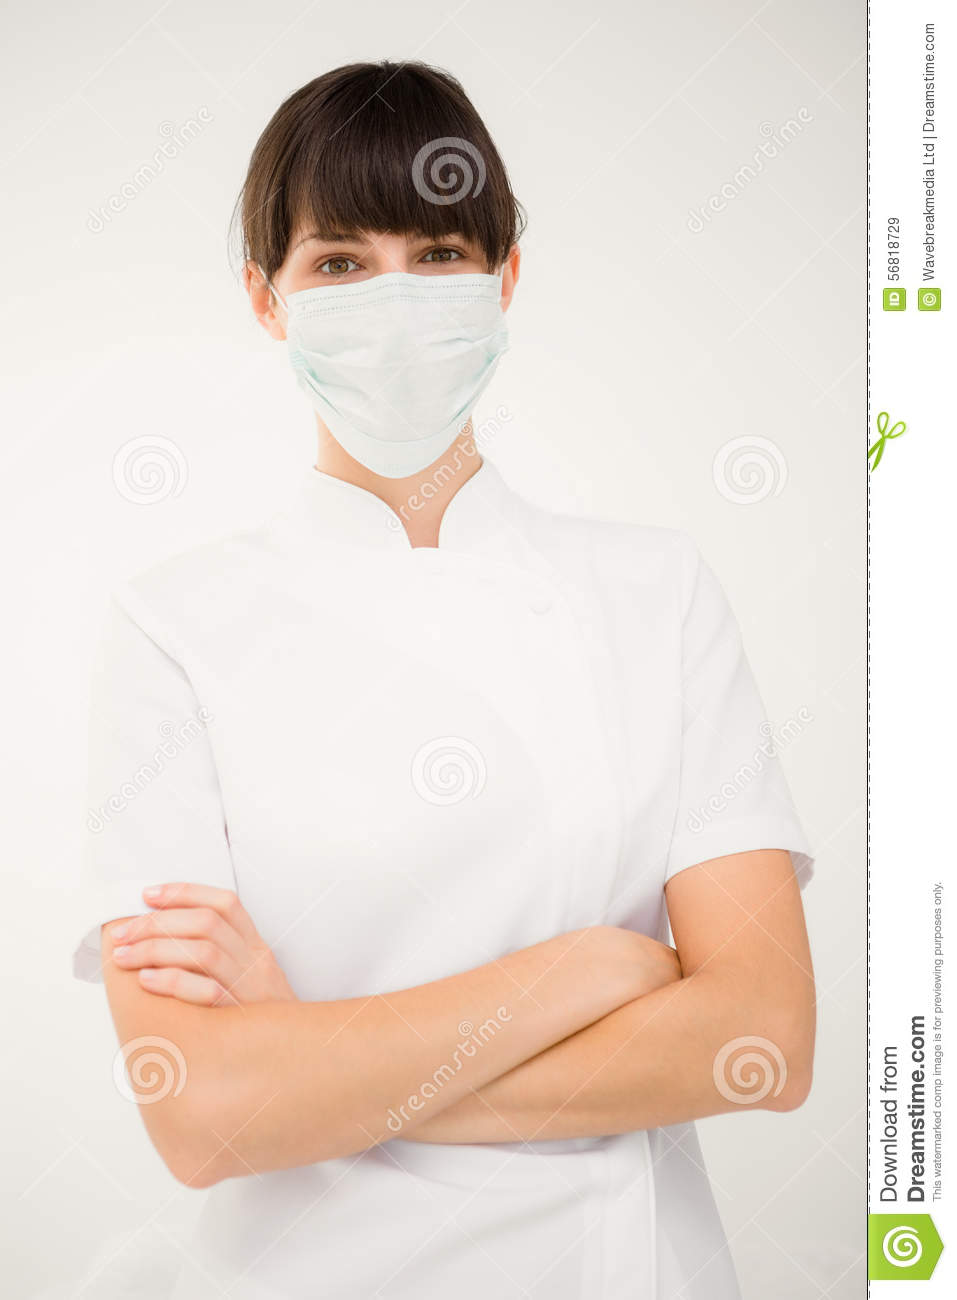mask: (268, 270, 518, 451)
